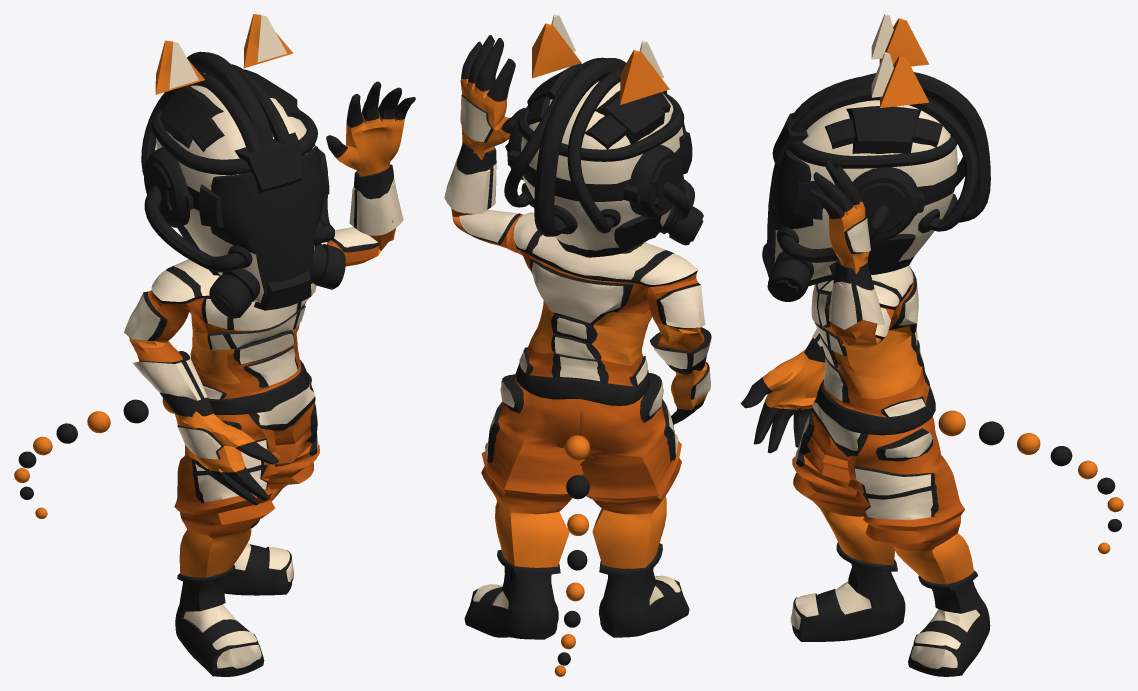
The model's file is av-mascote-tigre.glb.
3 views of the same model, side by side, from view 1: azimuth 30°, elevation 25°; view 2: azimuth 150°, elevation 25°; view 3: azimuth 270°, elevation 25° (orthographic).
Parts seen in each view (by area): view 1: Ad_cauda_1_0; view 2: Ad_cauda_1_0; view 3: Ad_cauda_1_0.
Boxes of the visible parts, <box> form: Ad_cauda_1_0: <box>14,14,415,676</box>; Ad_cauda_1_0: <box>444,14,711,676</box>; Ad_cauda_1_0: <box>740,14,1123,676</box>.
Size of the model in its own units: 0.6823 by 1.51 by 0.8613.
